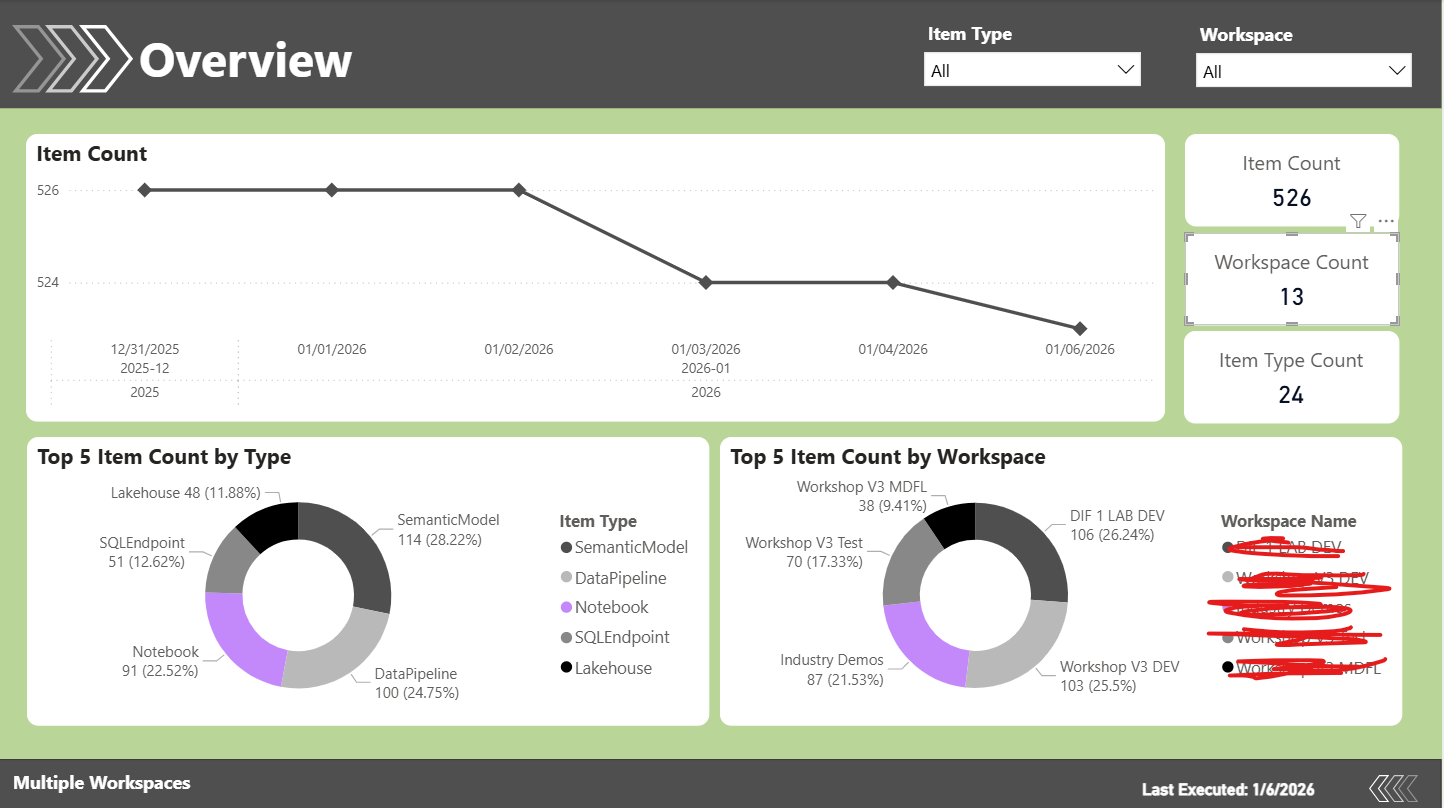

This screenshot's page, from the dashboard's own definition file:
{"tool":"powerbi","page":{"name":"Overview","canvas":[1280,720],"ordinal":0},"visuals":[{"type":"group","id":"g1","title":"Footer","box":[0,673.4,1280,46.3],"z":0},{"type":"shape","title":"Footer background","box":[0,673.4,1280,46.3],"z":500,"group":"g1"},{"type":"shape","title":"Chevron1","box":[1216,688,18,24],"z":750,"group":"g1"},{"type":"group","id":"g2","title":"Header","box":[0,0,1280,118],"z":1000},{"type":"shape","title":"Header background","box":[0,0,1280,96],"z":1000,"group":"g2"},{"type":"shape","title":"Chevron2","box":[1229,688,18,24],"z":1000,"group":"g1"},{"type":"shape","title":"Chevron1","box":[12,22,48,60],"z":2000,"group":"g2"},{"type":"shape","title":"Chevron3","box":[1241,688,18,24],"z":2000,"group":"g1"},{"type":"multiRowCard","title":"Footer text","fields":{"Values":["_Measures.Workspace Name"]},"box":[7.9,678,553.1,33.8],"z":2500,"group":"g1"},{"type":"slicer","fields":{"Values":["Unique Workspaces.Workspace Name"]},"box":[1052.4,13.9,211.4,76.2],"z":3000},{"type":"shape","title":"Chevron2","box":[42,22,48,60],"z":3000,"group":"g2"},{"type":"shape","title":"Chevron3","box":[72,22,48,60],"z":4000,"group":"g2"},{"type":"lineChart","title":"Item Count","fields":{"Y":["_Measures.Item Count"],"Category":["DimDate.Year","DimDate.Year-Month","DimDate.Date"]},"box":[24.8,118.8,1010,255.4],"z":4000},{"type":"slicer","fields":{"Values":["fabricItems.Item Type"]},"box":[811.2,13.6,212,75.9],"z":5000},{"type":"textbox","title":"Title","box":[125,22,456,96],"z":5000,"group":"g2"},{"type":"donutChart","title":"Top 5 Item Count by Type","fields":{"Y":["_Measures.Item Count"],"Category":["fabricItems.Item Type"]},"box":[25.3,387.1,605,255.8],"z":6000},{"type":"donutChart","title":"Top 5 Item Count by Workspace","fields":{"Y":["_Measures.Item Count"],"Category":["Unique Workspaces.Workspace Name"]},"box":[640,387.1,605,255.8],"z":7000},{"type":"cardVisual","fields":{"Data":["_Measures.Item Count"]},"box":[1052.5,118.8,189.8,81.6],"z":8000},{"type":"cardVisual","fields":{"Data":["_Measures.Workspace Count"]},"box":[1052.5,206.2,189.8,81.6],"z":9000},{"type":"cardVisual","fields":{"Data":["_Measures.Item Type Count"]},"box":[1051.6,293.5,190.6,81.6],"z":10000},{"type":"cardVisual","fields":{"Data":["_Measures.Last Notebook Run"]},"box":[997.5,680.1,205.7,31.9],"z":11000}]}

Visuals, with their boxes in screenshot pixels (x1, y1, x2, y2), scaled from the page's 1280x720 canvas onto the 1444x808 screenshot:
"Footer" group: locate(0, 756, 1443, 807)
"Footer background" shape: locate(0, 756, 1443, 807)
"Chevron1" shape: locate(1372, 772, 1392, 799)
"Header" group: locate(0, 0, 1443, 132)
"Header background" shape: locate(0, 0, 1443, 108)
"Chevron2" shape: locate(1386, 772, 1407, 799)
"Chevron1" shape: locate(14, 25, 68, 92)
"Chevron3" shape: locate(1400, 772, 1420, 799)
"Footer text" multiRowCard: locate(9, 761, 633, 799)
slicer - Unique Workspaces.Workspace Name: locate(1187, 16, 1426, 101)
"Chevron2" shape: locate(47, 25, 102, 92)
"Chevron3" shape: locate(81, 25, 135, 92)
"Item Count" lineChart: locate(28, 133, 1167, 420)
slicer - fabricItems.Item Type: locate(915, 15, 1154, 100)
"Title" textbox: locate(141, 25, 655, 132)
"Top 5 Item Count by Type" donutChart: locate(29, 434, 711, 721)
"Top 5 Item Count by Workspace" donutChart: locate(722, 434, 1405, 721)
cardVisual - _Measures.Item Count: locate(1187, 133, 1401, 225)
cardVisual - _Measures.Workspace Count: locate(1187, 231, 1401, 323)
cardVisual - _Measures.Item Type Count: locate(1186, 329, 1401, 421)
cardVisual - _Measures.Last Notebook Run: locate(1125, 763, 1357, 799)
